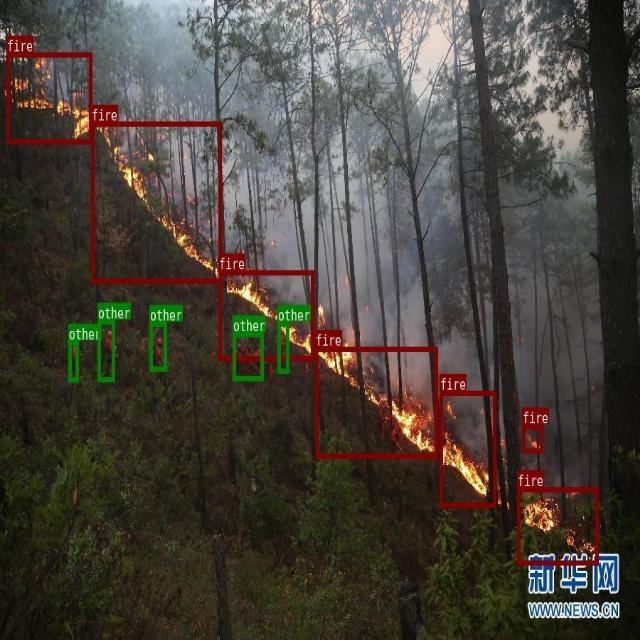fire: (91, 121, 221, 283), (315, 346, 437, 457), (218, 270, 313, 360), (6, 53, 91, 144), (440, 390, 496, 506), (517, 487, 598, 564), (522, 423, 542, 452)
